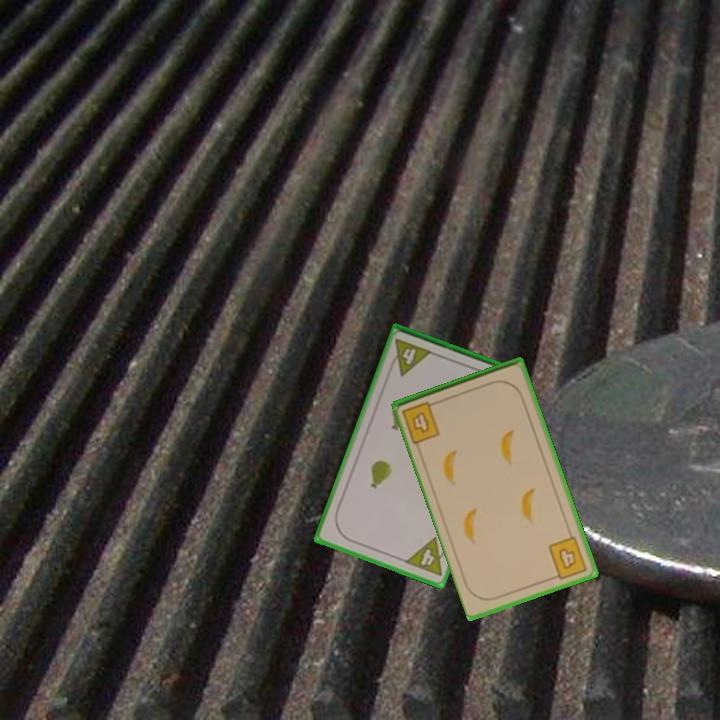4b: (545, 533, 590, 583), (399, 397, 443, 446)
4p: (401, 534, 452, 579), (385, 335, 435, 379)
